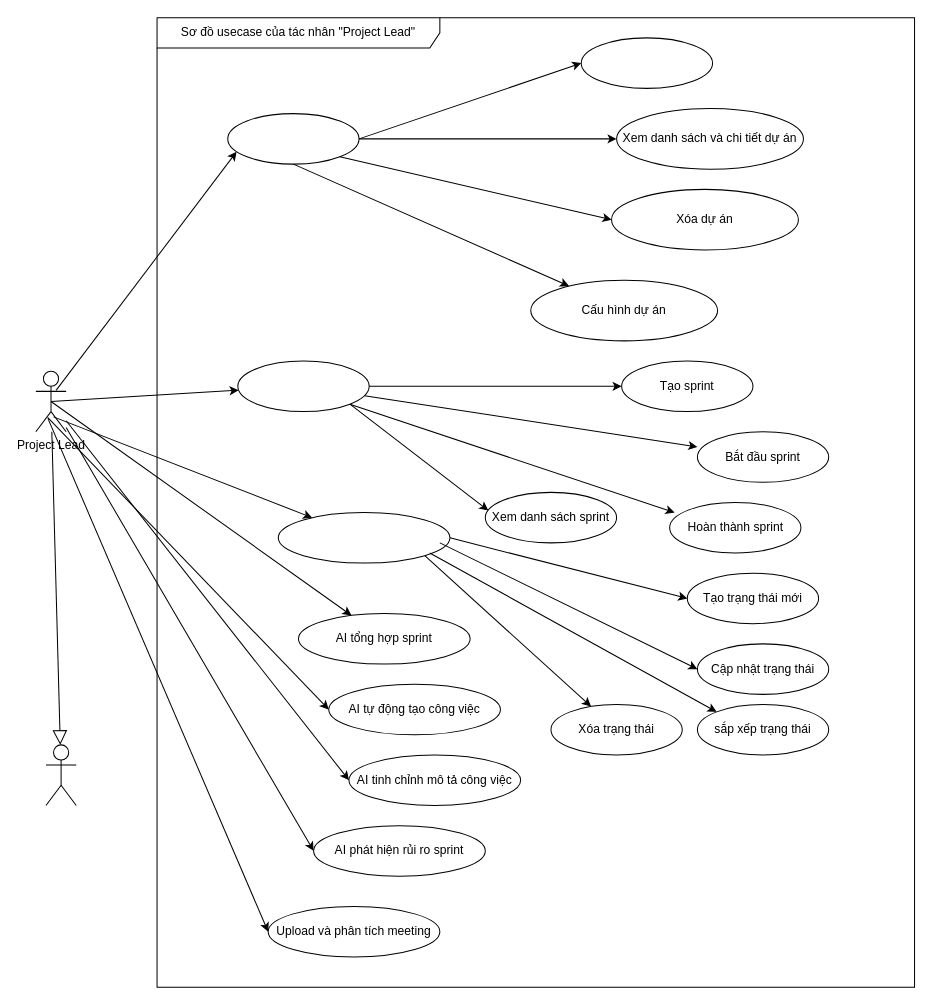
This 932x1005 diagram has some shape labels left out. The centre of each missing label's shape, as x and y in pixels:
Quản lý dự án: pixel 293 138
Quản lý sprint: pixel 303 386
Quản lý trạng thái công việc: pixel 363 537
Team Member: pixel 60 774
Tạo dự án: pixel 646 62
